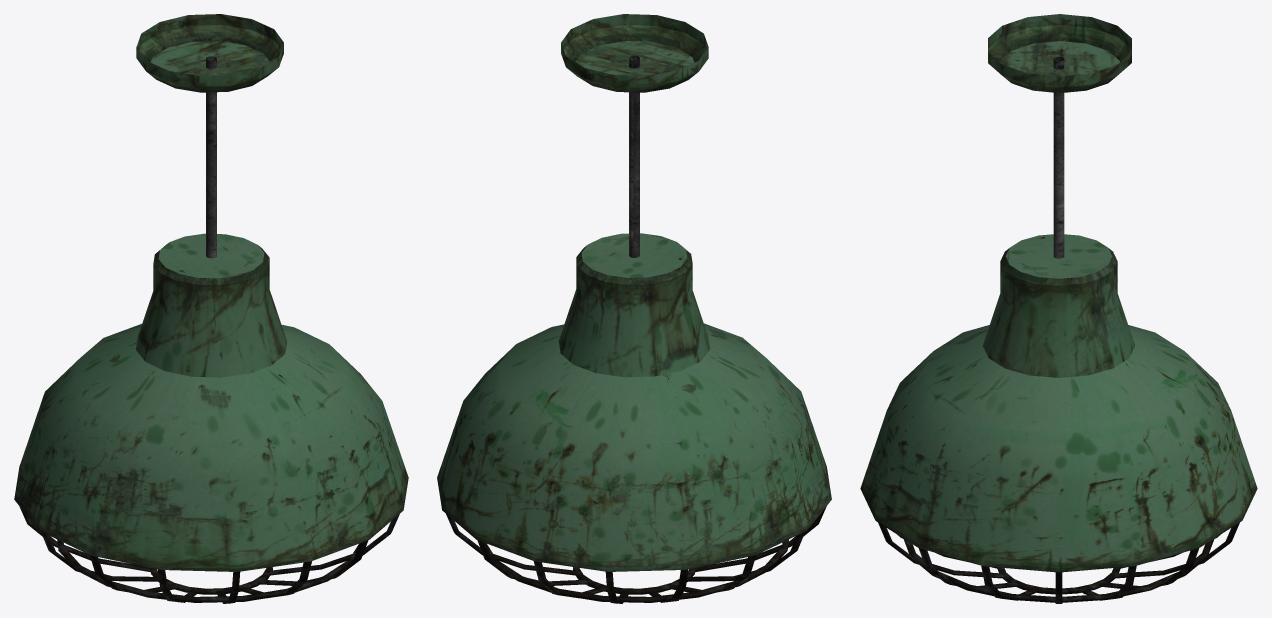
The model's file is Light_hanging_NoPlug.fbx.
3 renders of one model, left to right at view 1: azimuth 30°, elevation 25°; view 2: azimuth 150°, elevation 25°; view 3: azimuth 270°, elevation 25°, orthographic.
Parts seen in each view (by area): view 1: Light_hanging_NoPlug; view 2: Light_hanging_NoPlug; view 3: Light_hanging_NoPlug.
Part boxes in pixels (left/top/right/bottom): Light_hanging_NoPlug: left=14, top=14, right=408, bottom=603; Light_hanging_NoPlug: left=437, top=14, right=831, bottom=603; Light_hanging_NoPlug: left=860, top=14, right=1257, bottom=603.
Size of the model in its own units: 0.6351 by 0.9225 by 0.6351.
